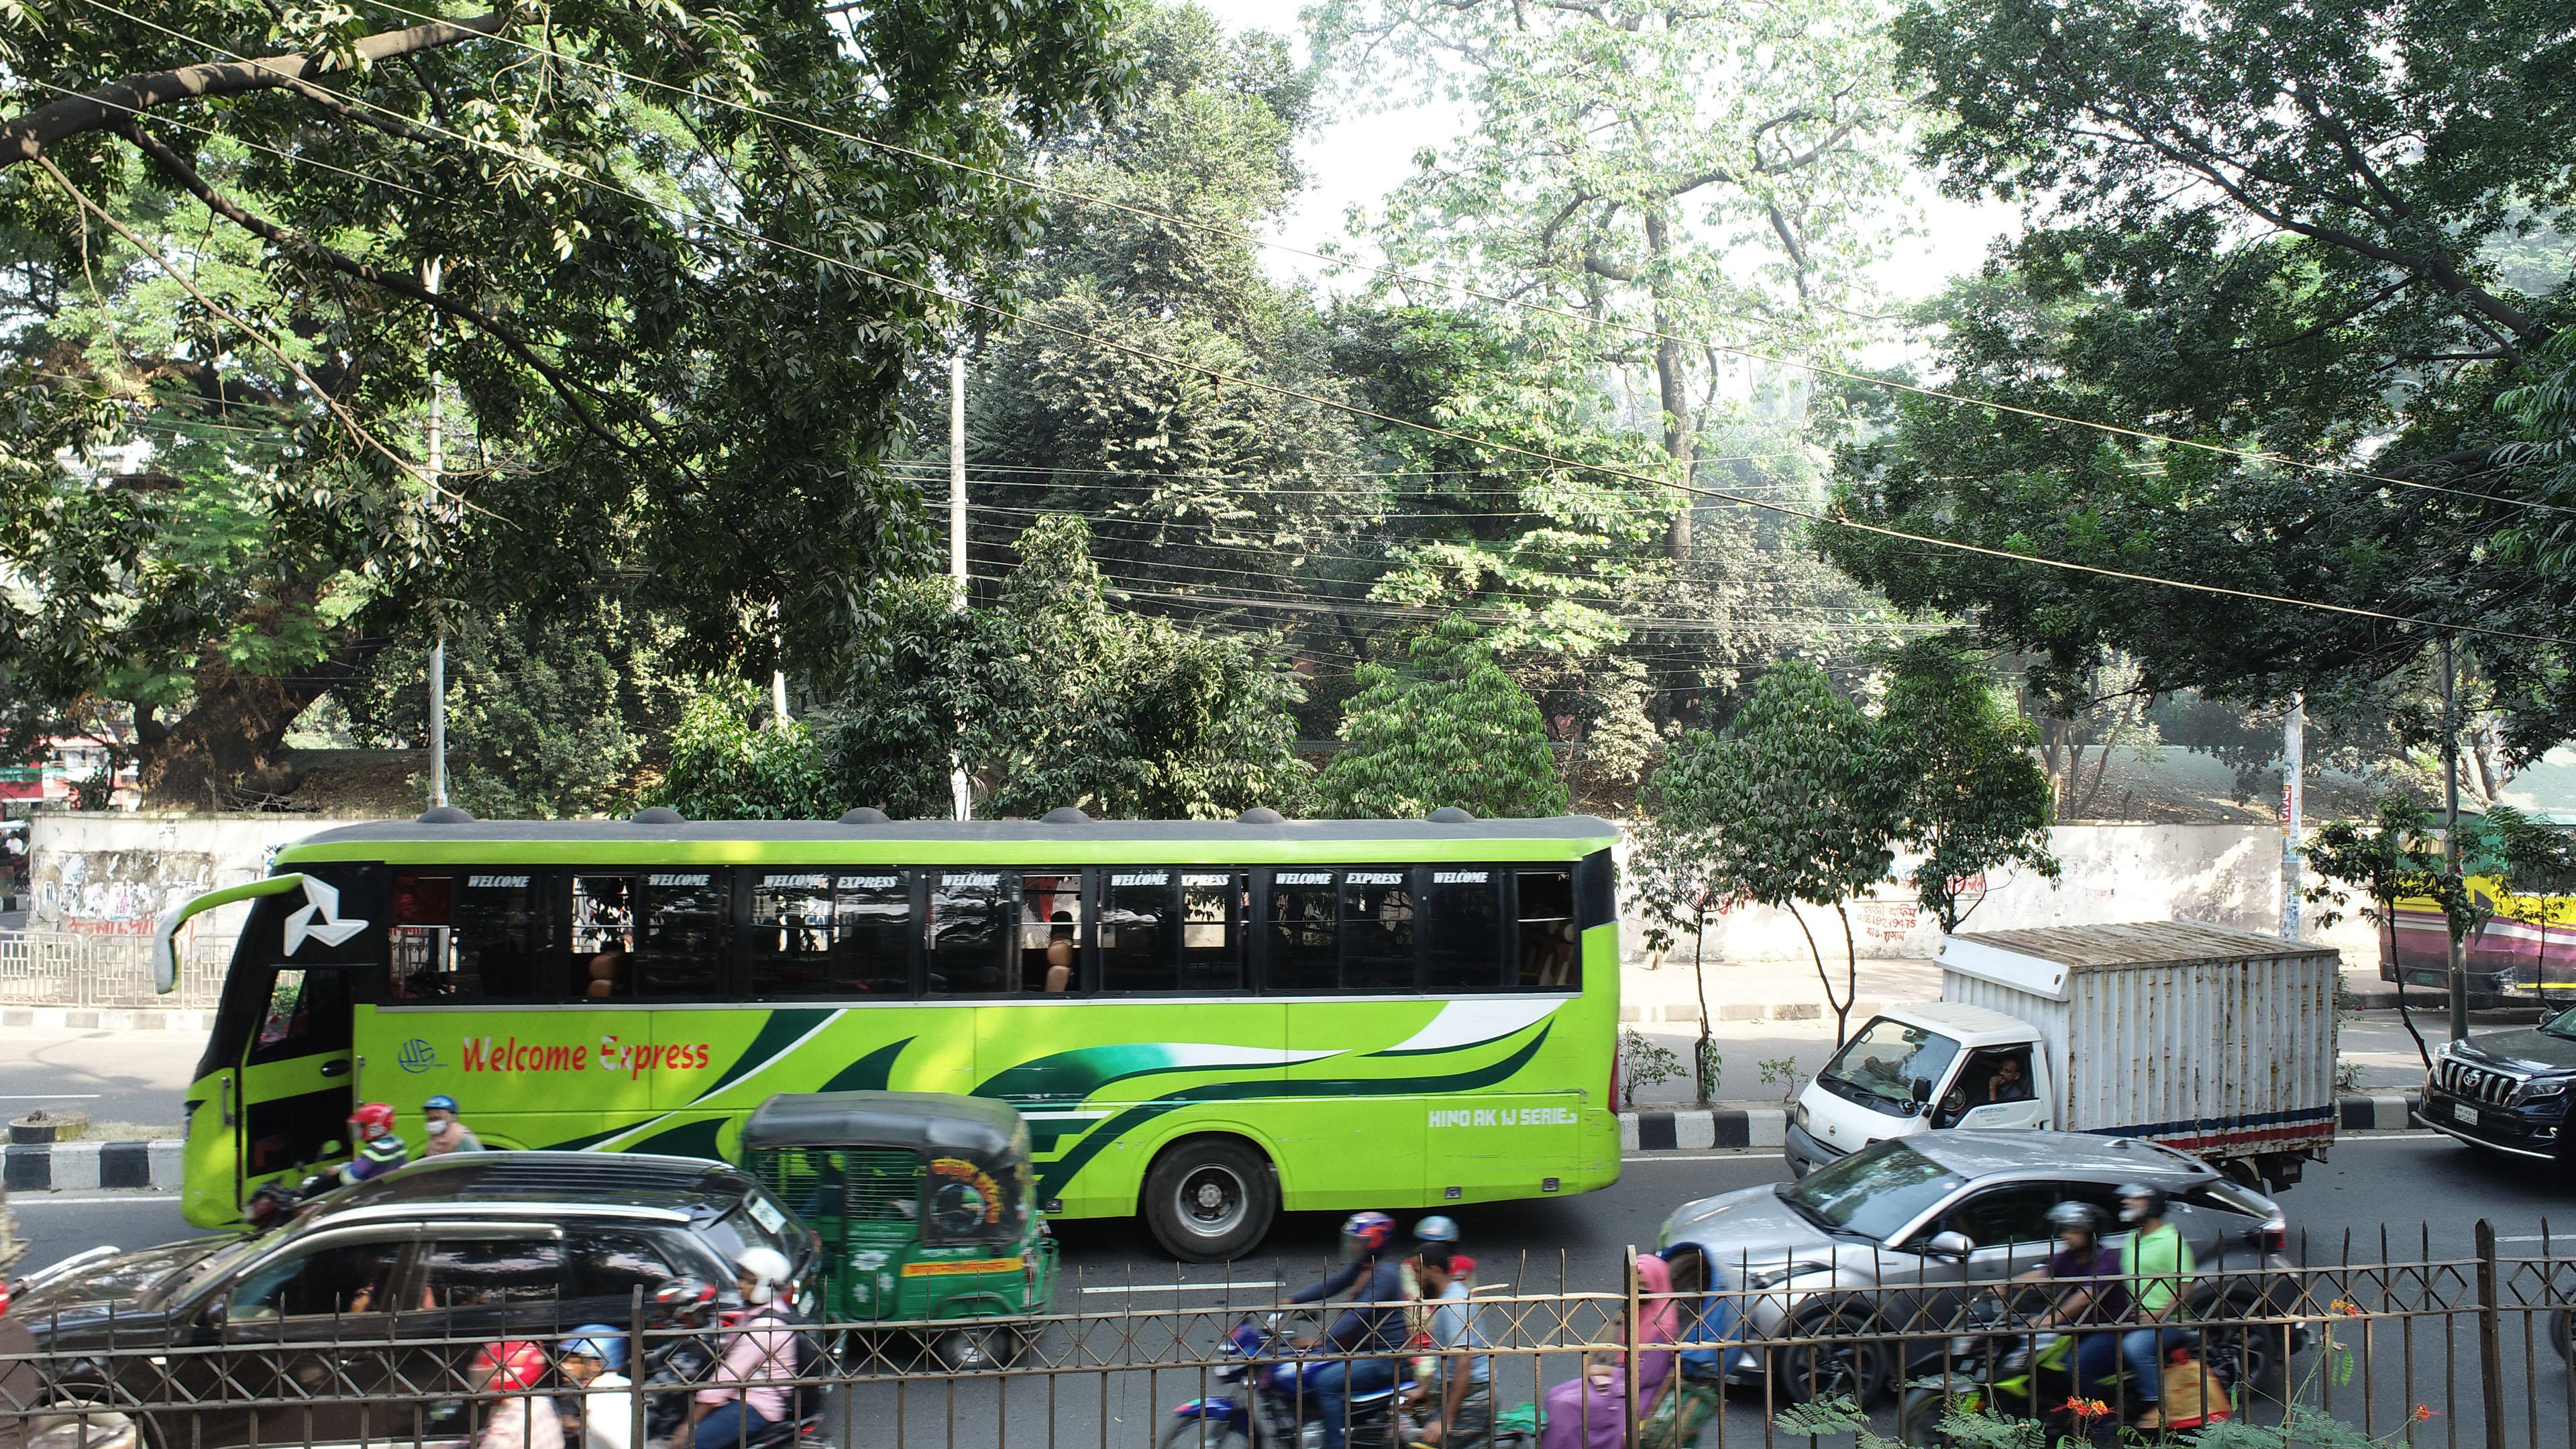bus: (142, 819, 1736, 1237)
car: (1575, 1092, 2390, 1366), (58, 1162, 812, 1433), (2410, 1019, 2576, 1162)
cng: (736, 1083, 1051, 1353)
motor: (1879, 1247, 2296, 1444), (1205, 1240, 1555, 1449)
truck: (1808, 892, 2328, 1177)
